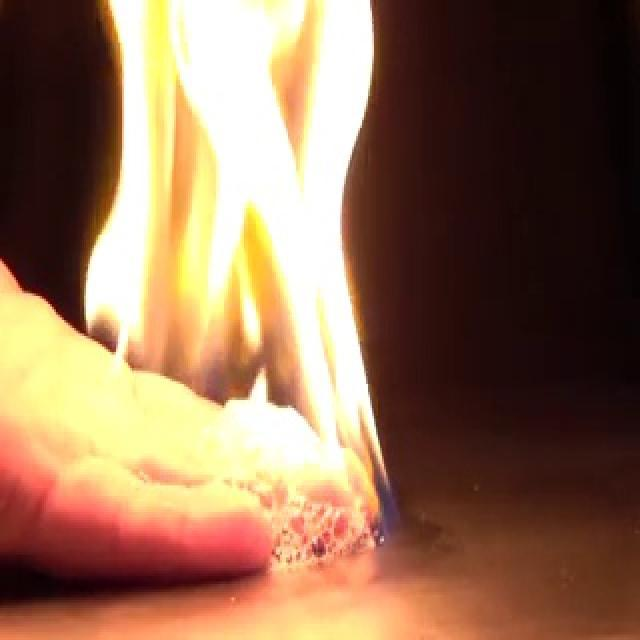Fire: (77, 1, 397, 567)
